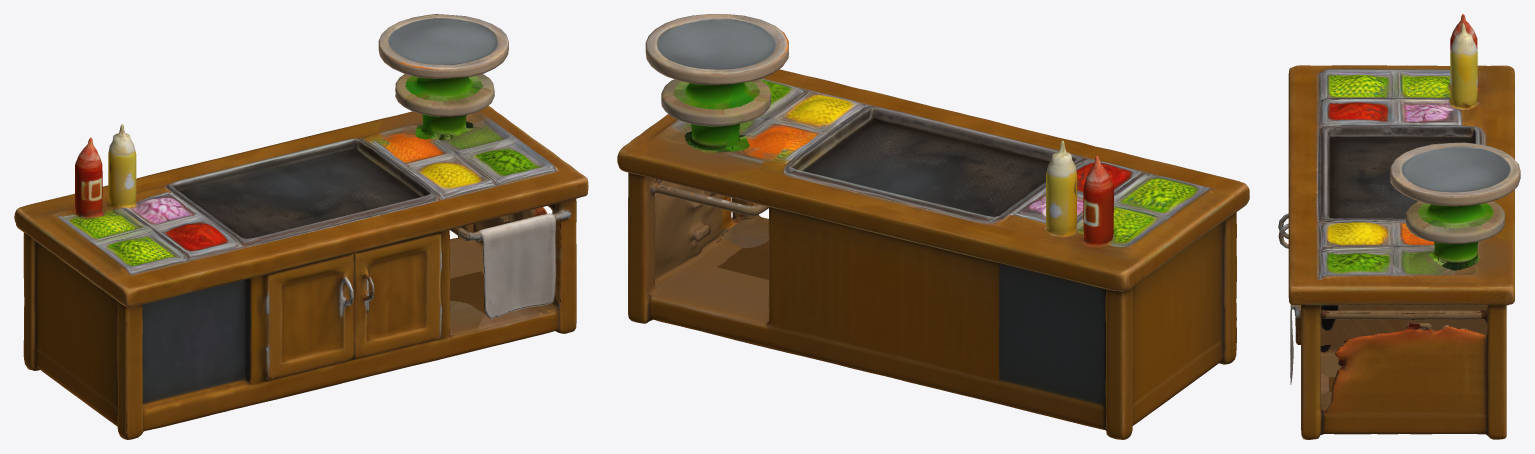
Rendered from lod_basic_pbr.fbx.
3 views of the same model, side by side, from view 1: azimuth 30°, elevation 25°; view 2: azimuth 150°, elevation 25°; view 3: azimuth 270°, elevation 25° (orthographic). The views are drawn at different scales.
Parts seen in each view (by area): view 1: model_LOD0; view 2: model_LOD0; view 3: model_LOD0.
Part boxes in pixels (<box>): model_LOD0: <box>14,14,588,439</box>; model_LOD0: <box>617,14,1249,439</box>; model_LOD0: <box>1278,14,1520,439</box>.
Size of what is drawn, in the model's own units: 190 by 97.1 by 87.05.
1 material, 1 textured.
